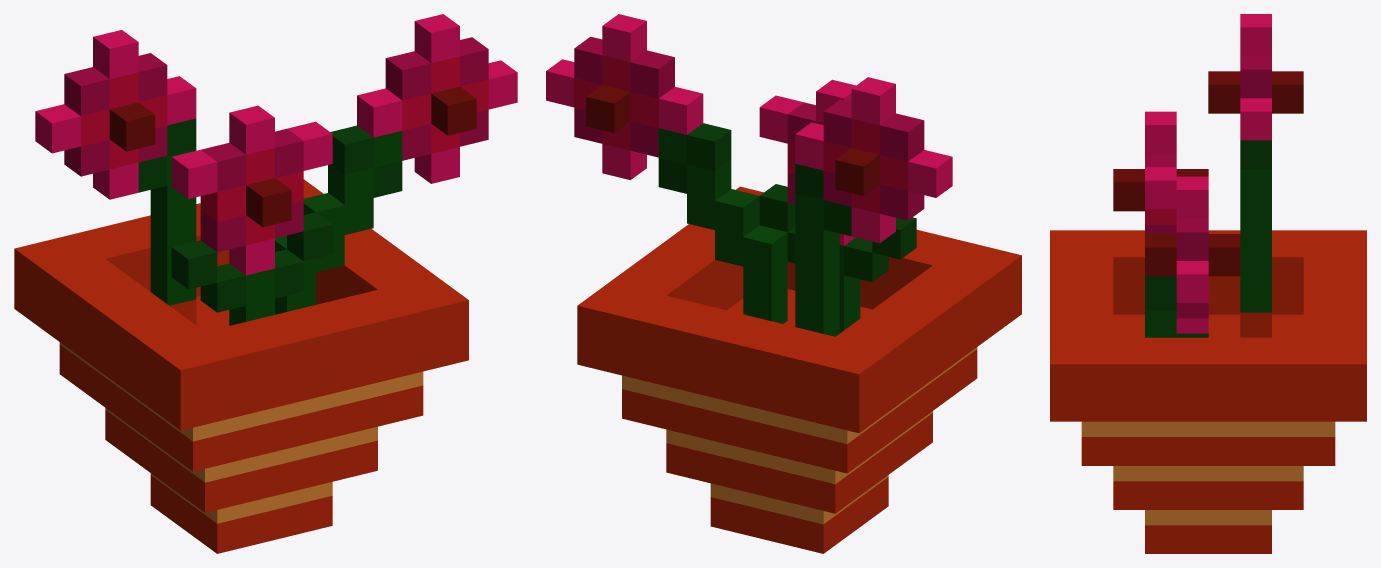
The model's file is flowerpot.fbx.
The picture shows the model from 3 angles, left to right: view 1: azimuth 30°, elevation 25°; view 2: azimuth 150°, elevation 25°; view 3: azimuth 270°, elevation 25°; orthographic projection. The views are drawn at different scales.
Visible parts, largest first — view 1: Matrix; view 2: Matrix; view 3: Matrix.
Part boxes in pixels (bbox=[...]): Matrix: bbox=[14, 14, 517, 553]; Matrix: bbox=[546, 14, 1021, 553]; Matrix: bbox=[1050, 14, 1366, 553].
Size of the model in its own units: 49.22 by 52.51 by 32.82.
